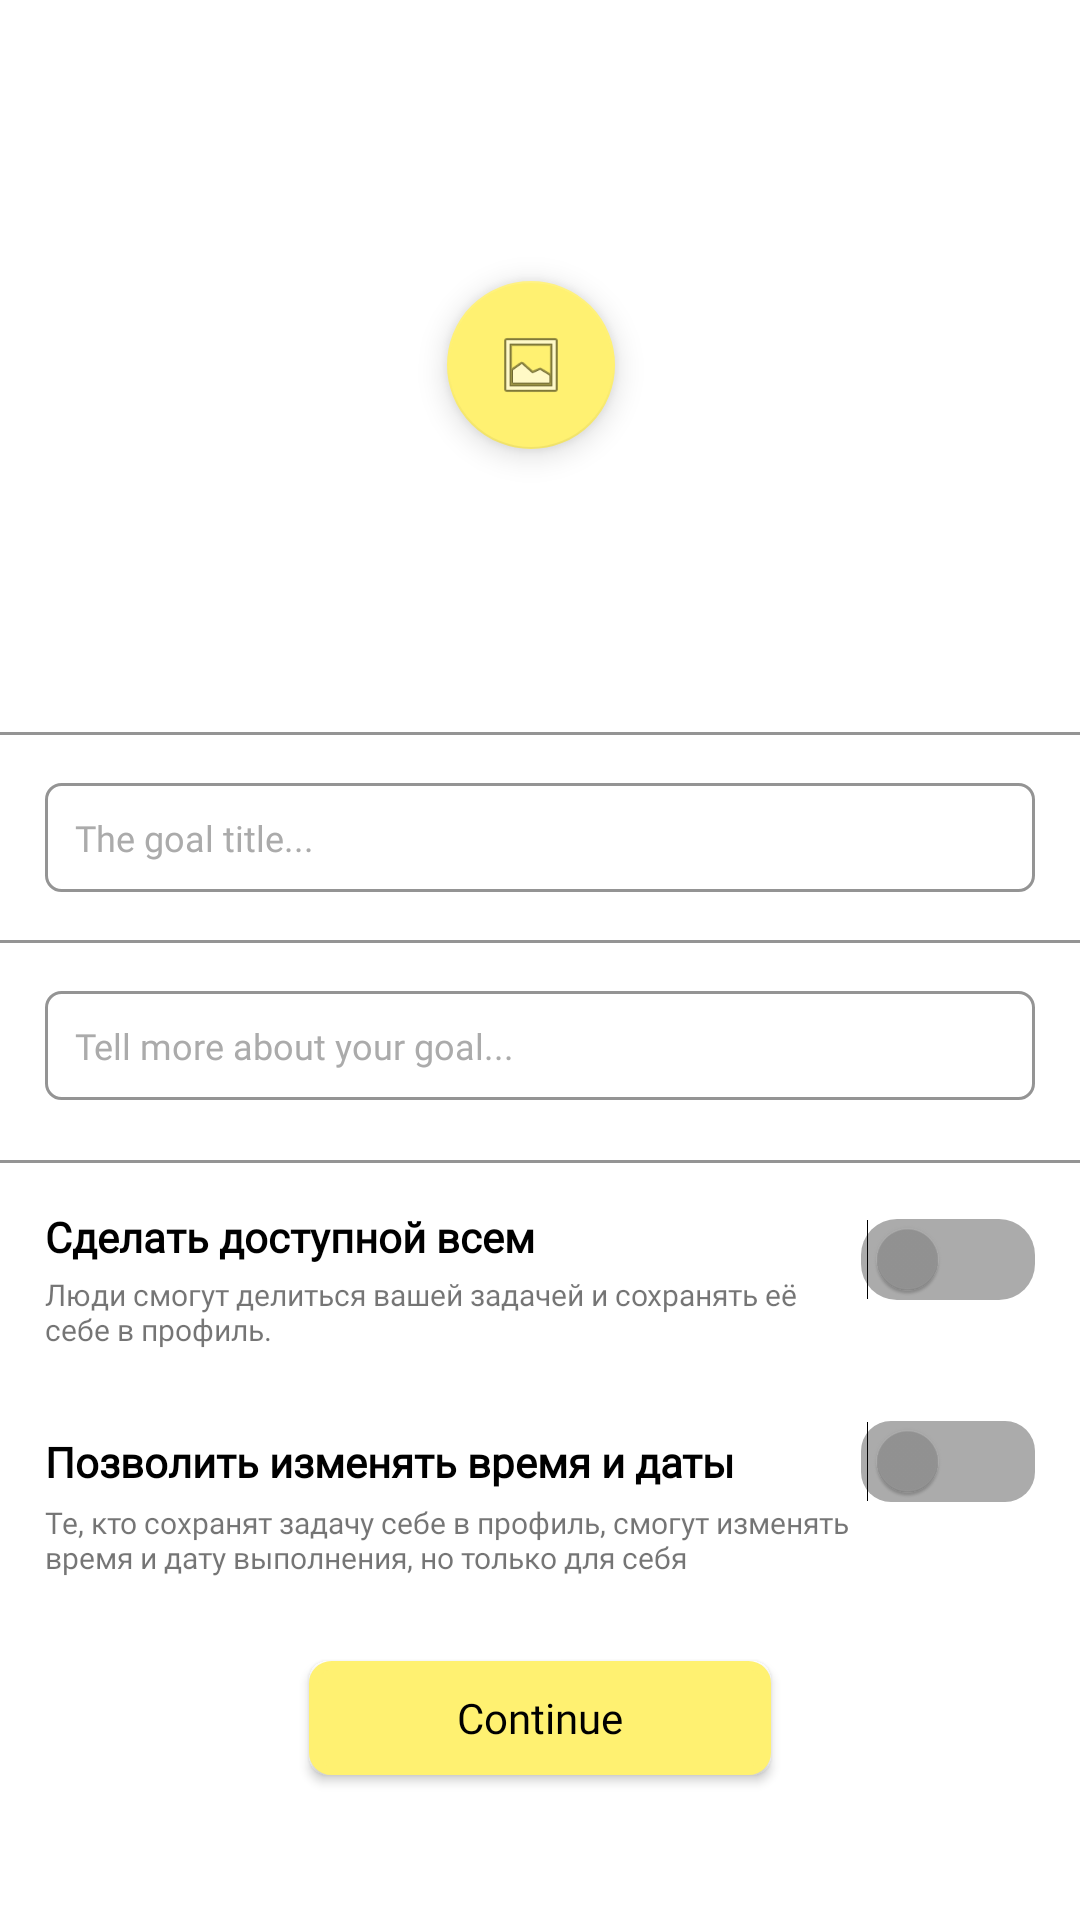

Named icons in this screenshot (1080px x 1920px) and their bounding boxes, (x1, y1, x2, y2):
gallery: (447, 281, 615, 449)
